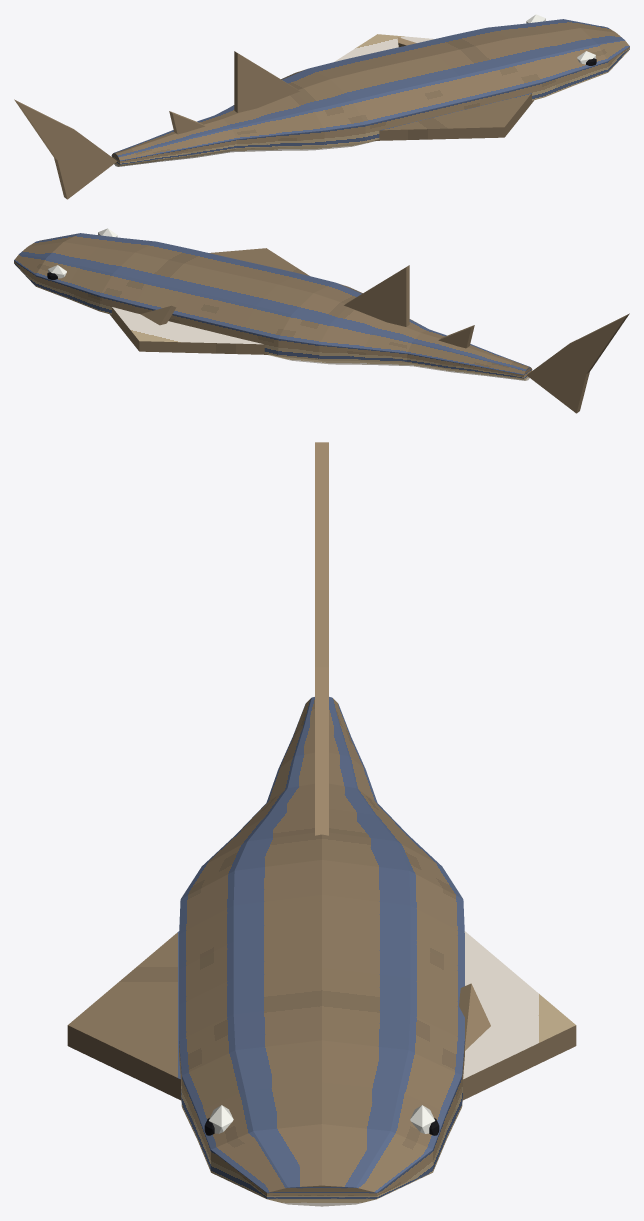
File: fiddler_ray.glb
3 views of the same model, one above another, from view 1: azimuth 30°, elevation 25°; view 2: azimuth 150°, elevation 25°; view 3: azimuth 270°, elevation 25° (orthographic). The views are drawn at different scales.
Parts seen in each view (by area): view 1: fish_fiddler_ray; view 2: fish_fiddler_ray; view 3: fish_fiddler_ray.
Part boxes in pixels (x1,y1,x2,y2): fish_fiddler_ray: (14, 14, 629, 199); fish_fiddler_ray: (14, 228, 629, 413); fish_fiddler_ray: (67, 442, 576, 1206).
Size of the model in its own units: 1.2 by 0.2146 by 0.44.
Materials: 4 (1 with a texture image).
